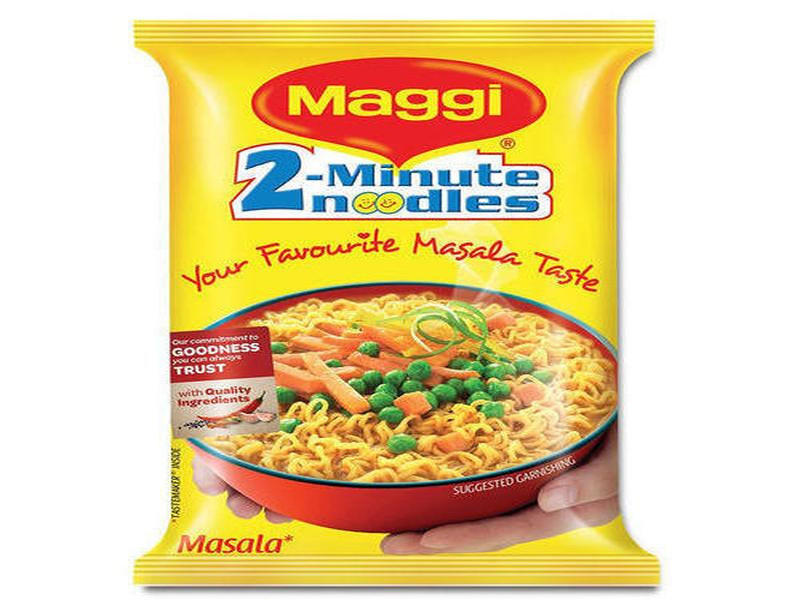maggi-small: (134, 22, 662, 591)
